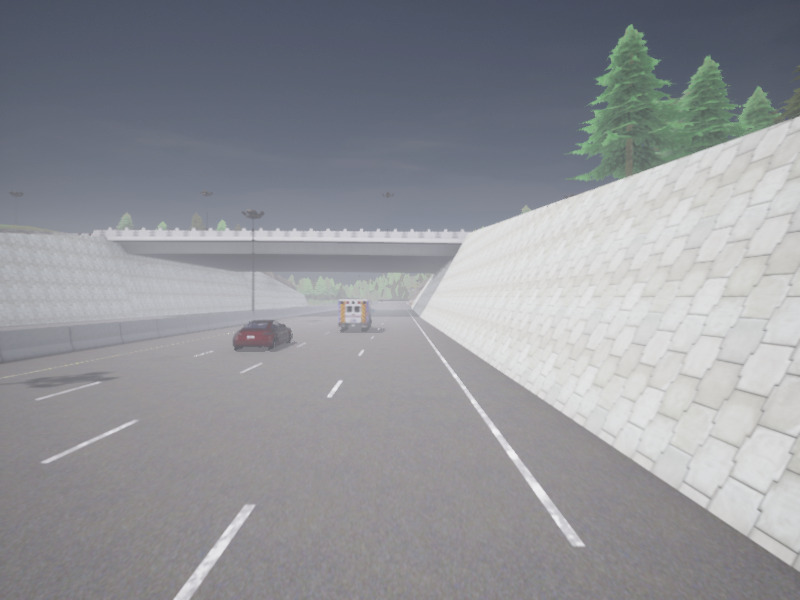vehicle: (233, 320, 292, 348), (338, 300, 374, 329)
